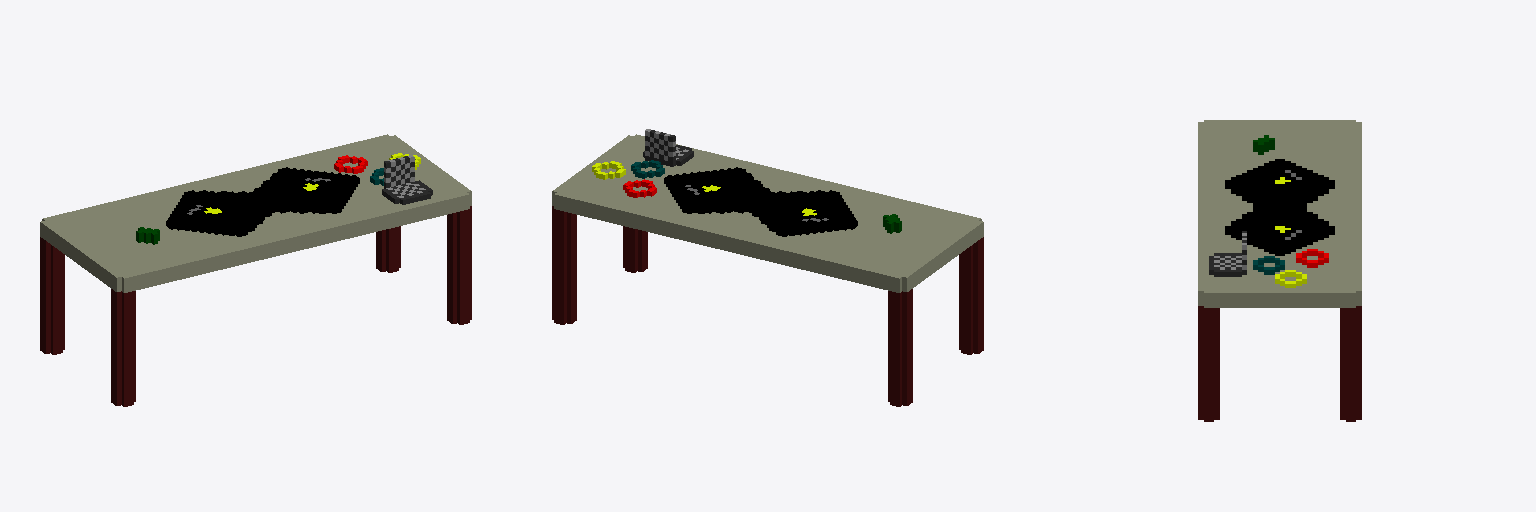
3 renders of one model, left to right at view 1: azimuth 30°, elevation 25°; view 2: azimuth 150°, elevation 25°; view 3: azimuth 270°, elevation 25°, orthographic.
Parts seen in each view (by area): view 1: object 1; view 2: object 1; view 3: object 1.
Part boxes in pixels (x1,y1,x2,y2): object 1: (40, 134, 471, 406); object 1: (552, 129, 983, 406); object 1: (1198, 120, 1361, 421).
Bounding box in the file's own units: 7.5 × 3.2 × 3.
1 materials, 1 textured.